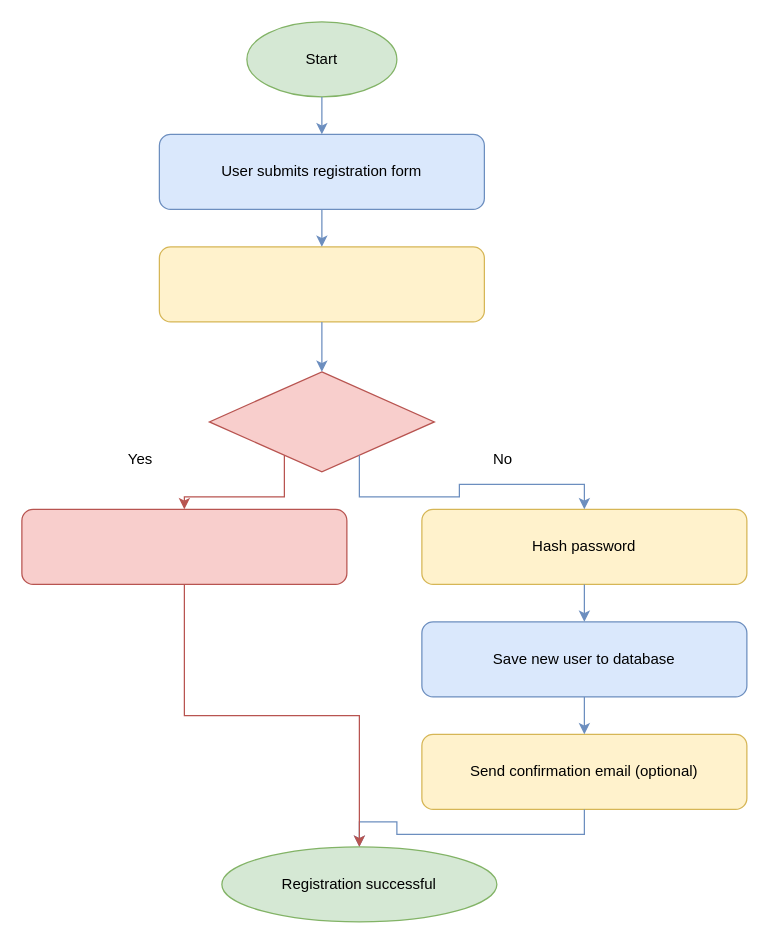
The diagram is 769 pixels wide and 944 high, and some of its shapes have lost their labels. Here are the shapes that lost their labels. From the top down, the box of each, then its label:
(158, 246, 484, 322): Validate input data
(208, 371, 434, 472): User/email exists?
(21, 508, 347, 584): Show error: User already exists
